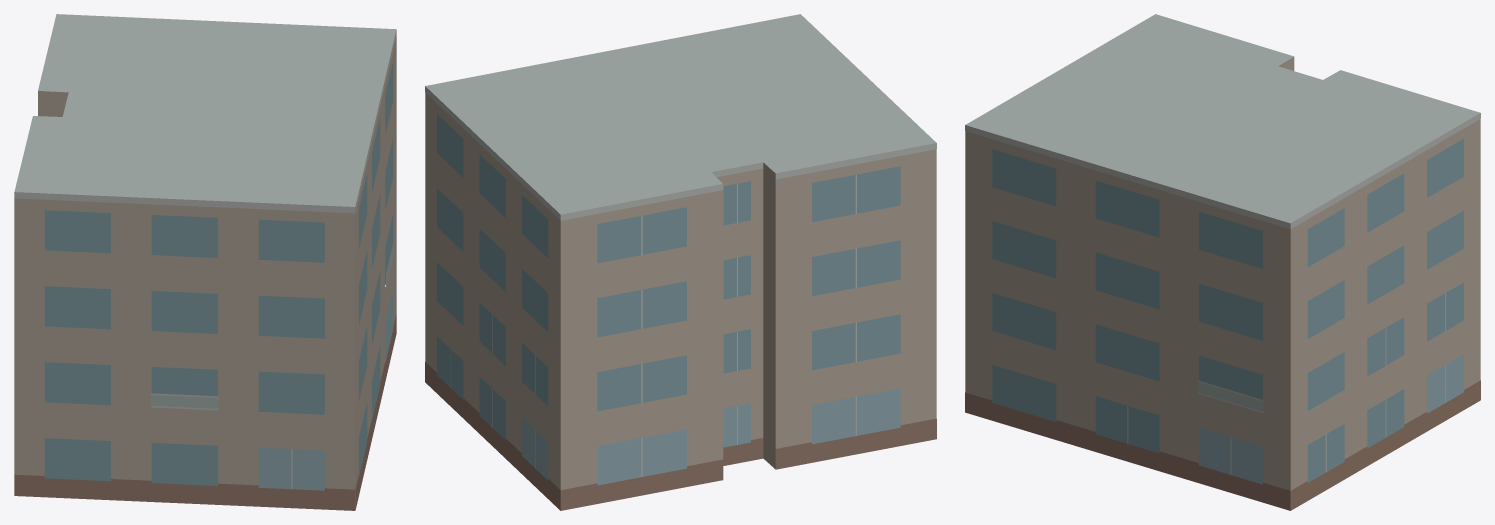
Rendered from survey-upis-32836773.glb.
The picture shows the model from 3 angles, left to right: view 1: azimuth 30°, elevation 25°; view 2: azimuth 150°, elevation 25°; view 3: azimuth 270°, elevation 25°; orthographic projection. The views are drawn at different scales.
Parts seen in each view (by area): view 1: survey-upis-32836773.tmp; view 2: survey-upis-32836773.tmp; view 3: survey-upis-32836773.tmp.
Boxes of the visible parts, bbox=[...] form: survey-upis-32836773.tmp: bbox=[14, 14, 396, 510]; survey-upis-32836773.tmp: bbox=[425, 14, 936, 510]; survey-upis-32836773.tmp: bbox=[965, 14, 1480, 510].
Bounding box in the file's own units: 18.29 × 11.7 × 19.03.
